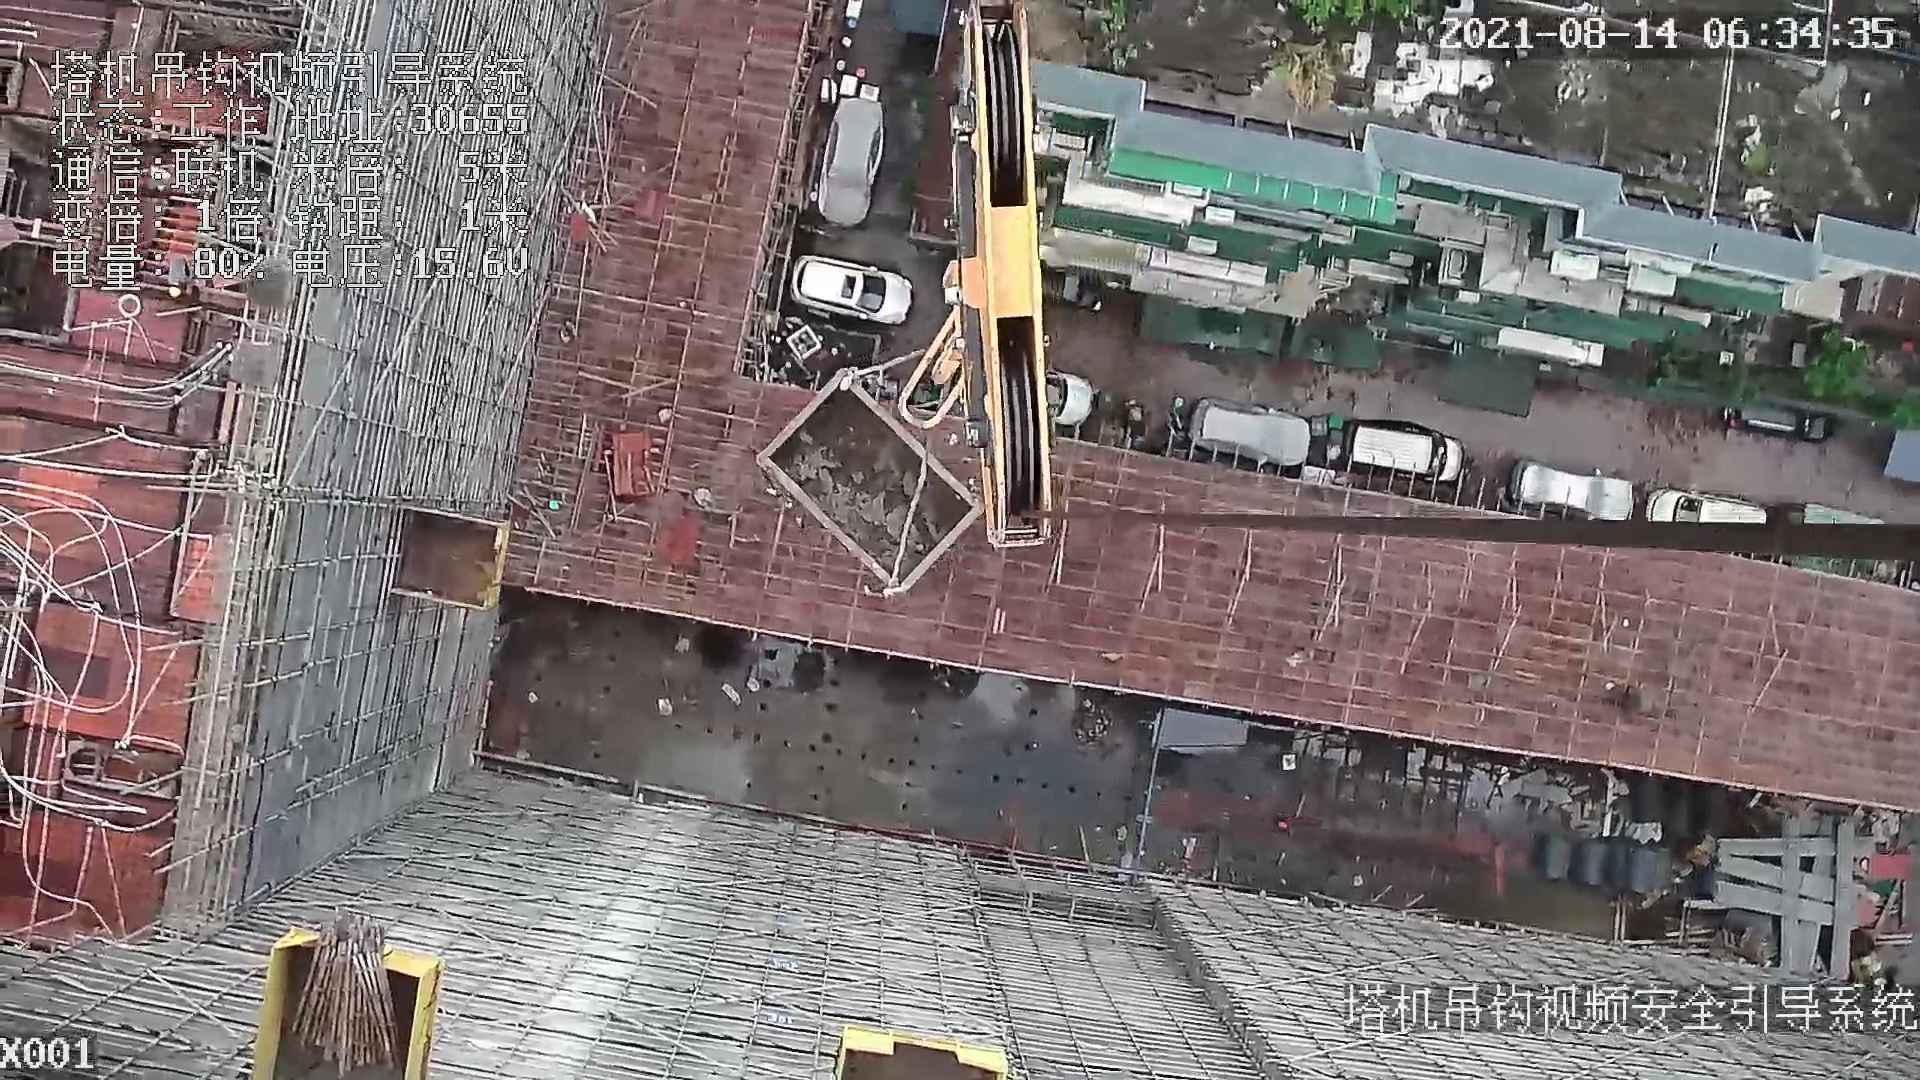hook: (897, 1, 1047, 550)
hopper: (760, 353, 986, 611)
scaffold: (294, 909, 411, 1080)
